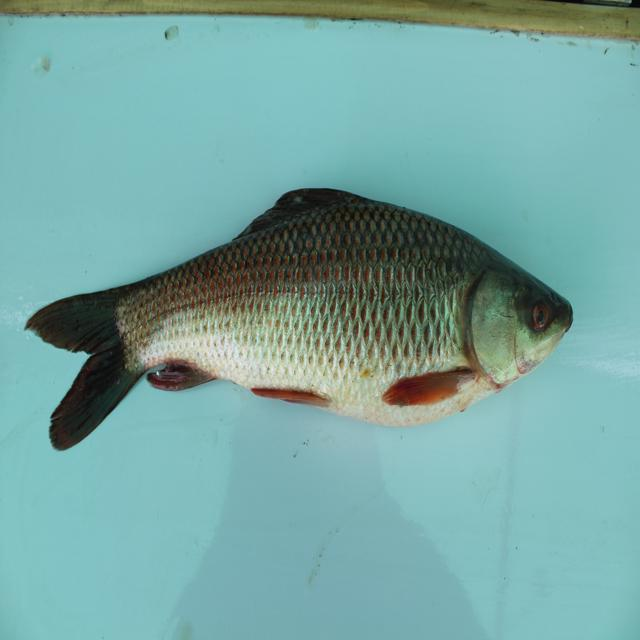Rohu: (27, 179, 593, 463)
